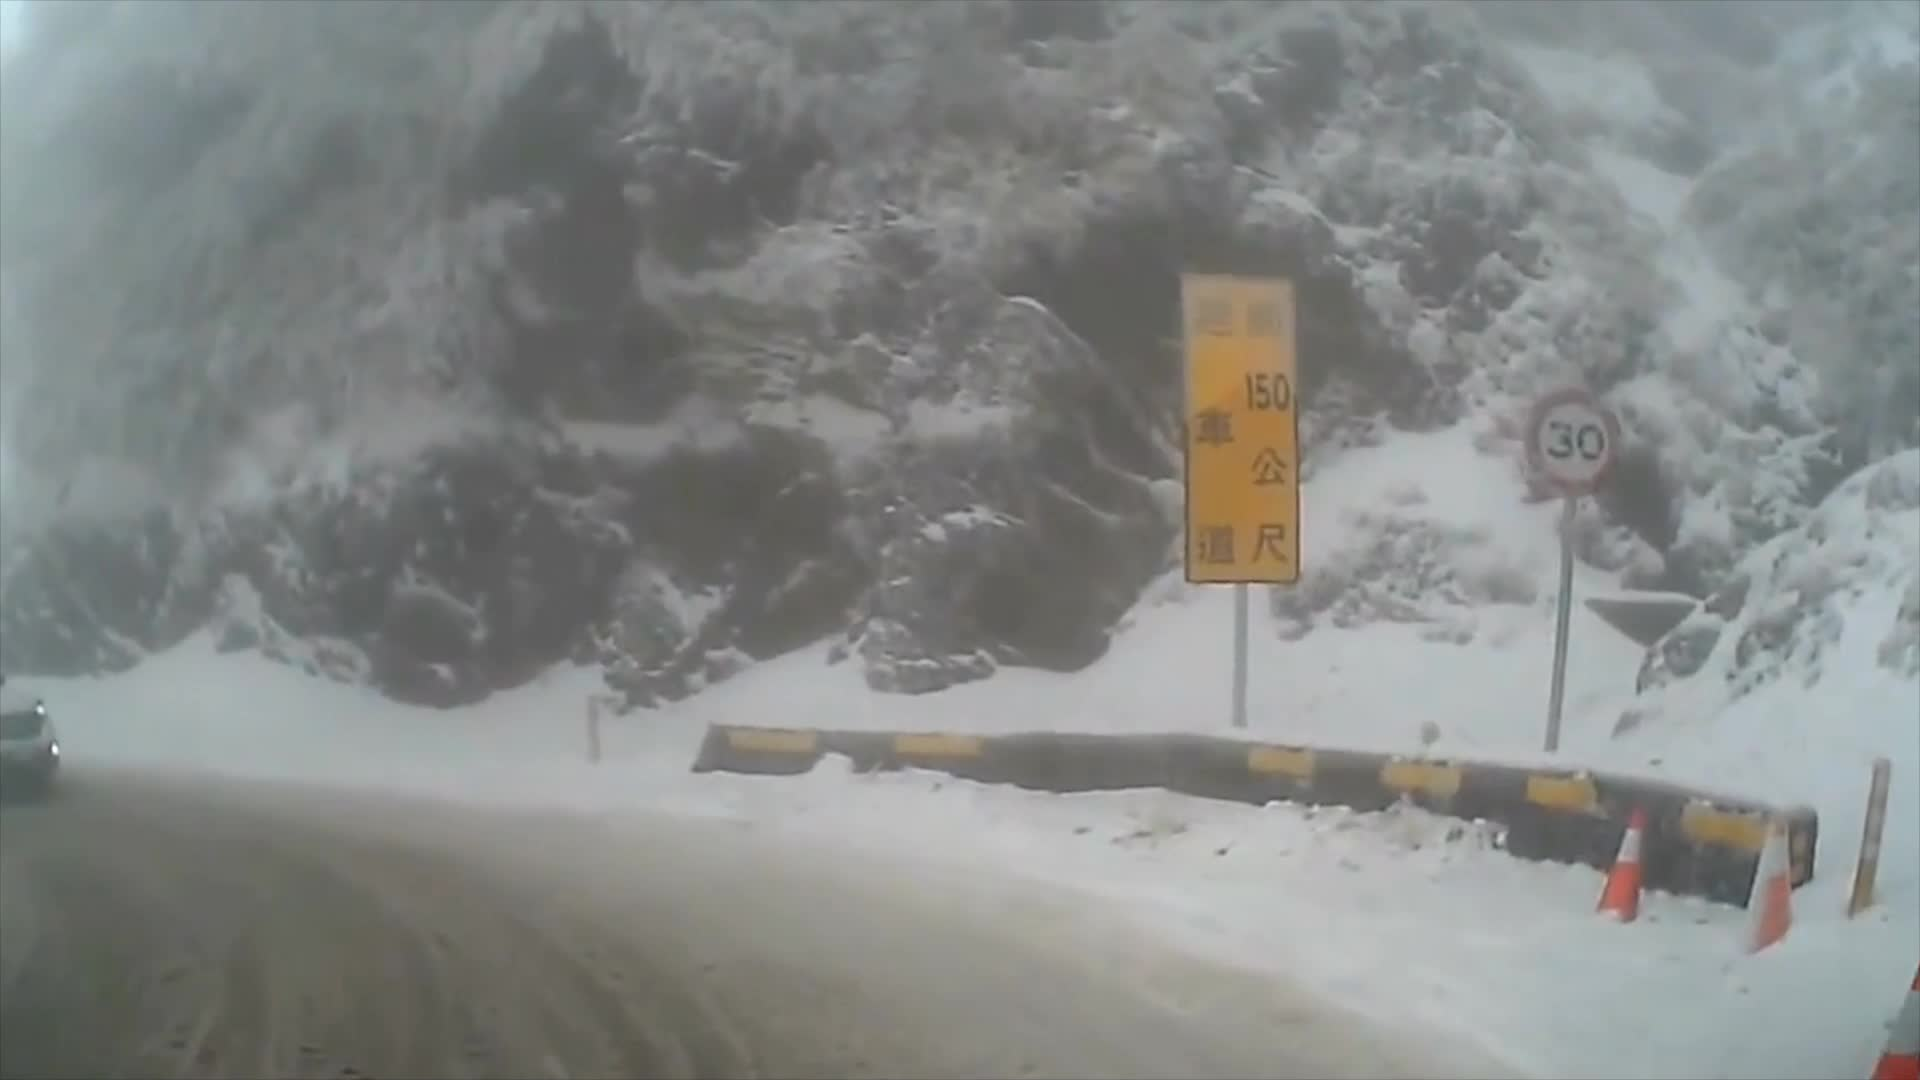vehicle: (0, 676, 57, 799)
